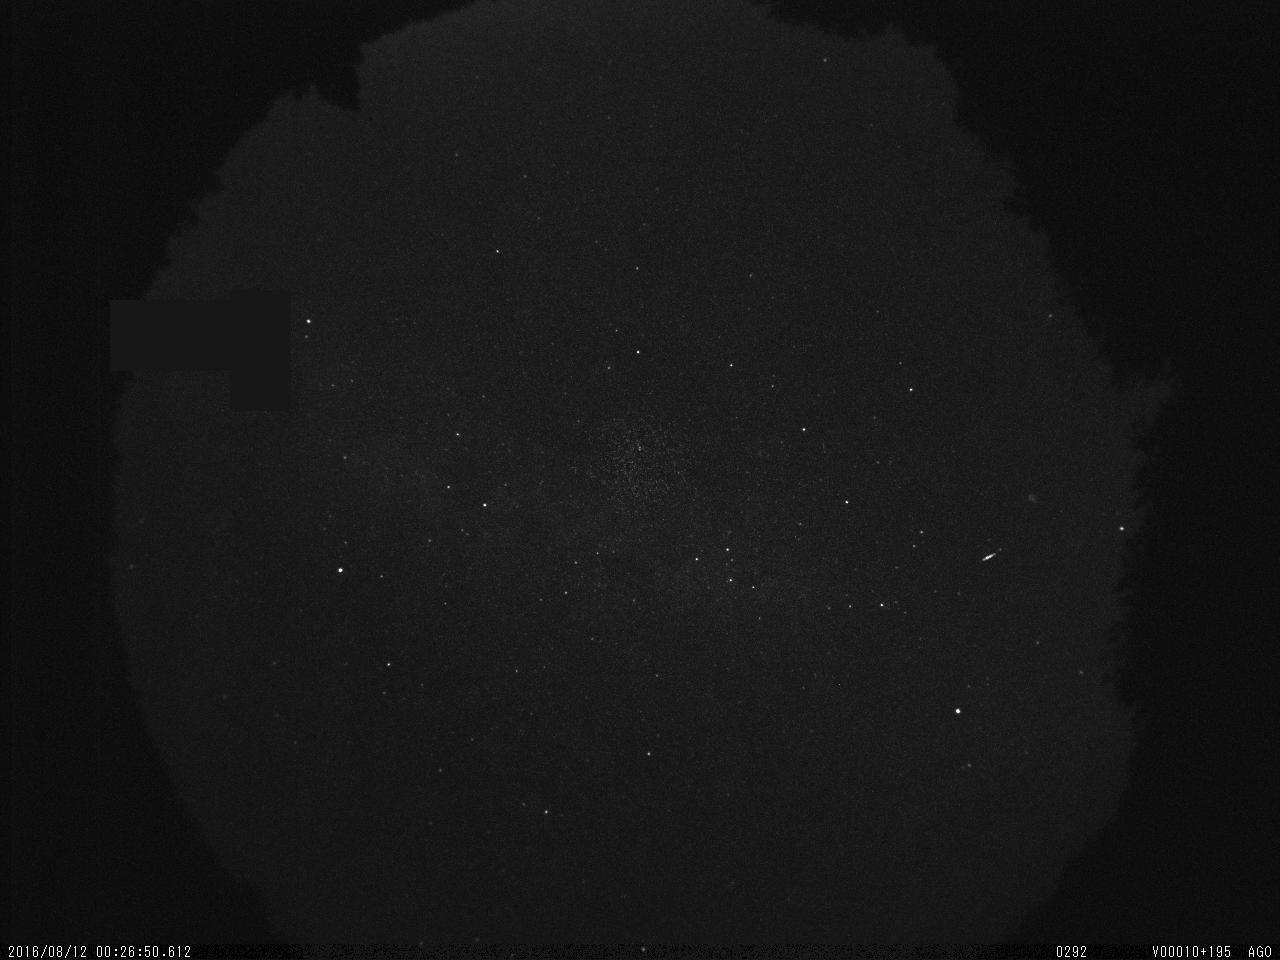meteor: (967, 536, 1014, 577)
